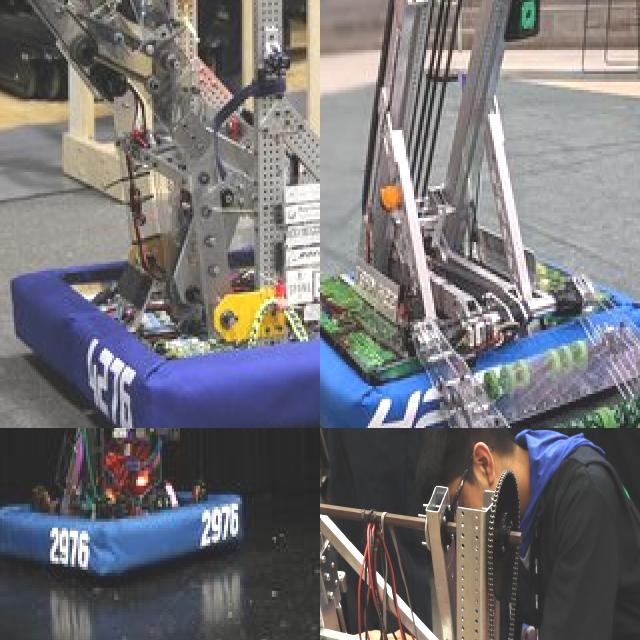FRC-Robots: (0, 0, 320, 428), (320, 0, 640, 428), (0, 428, 276, 599), (320, 476, 605, 640)
